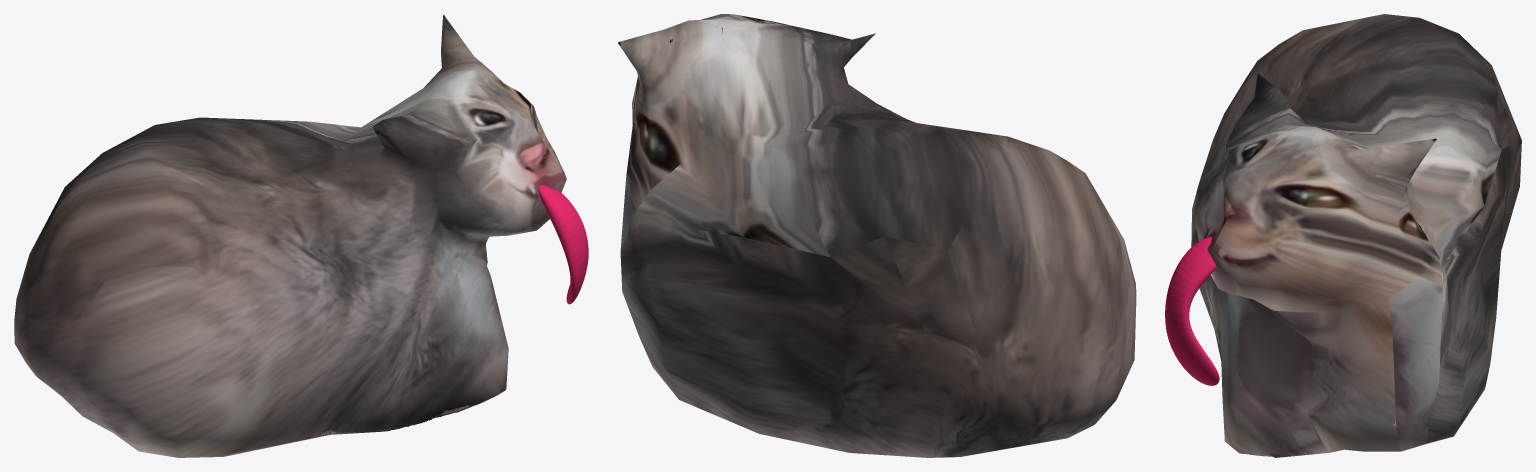
File: freaky2 1.fbx
3 renders of one model, left to right at view 1: azimuth 30°, elevation 25°; view 2: azimuth 150°, elevation 25°; view 3: azimuth 270°, elevation 25°, orthographic. The views are drawn at different scales.
Visible parts, largest first — view 1: dingus, Cube.001; view 2: dingus; view 3: dingus, Cube.001.
Part boxes in pixels (x1=…): dingus: x1=14, y1=15, x2=566, y2=457; Cube.001: x1=538, y1=185, x2=588, y2=304; dingus: x1=618, y1=14, x2=1136, y2=457; dingus: x1=1191, y1=14, x2=1521, y2=457; Cube.001: x1=1165, y1=237, x2=1219, y2=385.
Size of the model in its own units: 2982 by 1945 by 1781.
